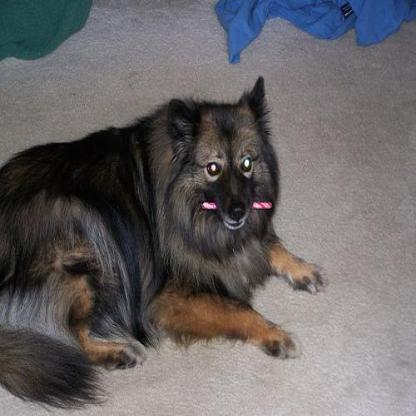keeshond: (0, 75, 328, 412)
